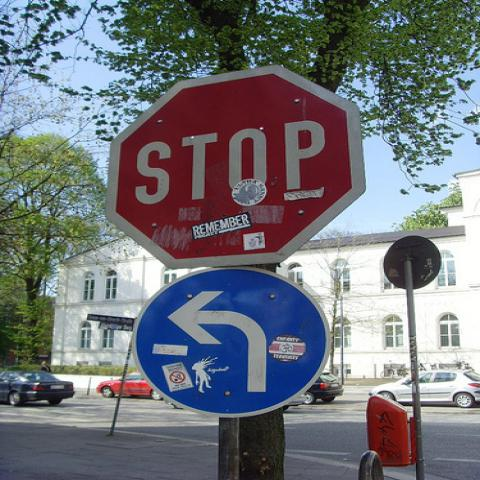car: (368, 369, 480, 408), (0, 370, 75, 407), (285, 371, 343, 412), (96, 371, 164, 401)
